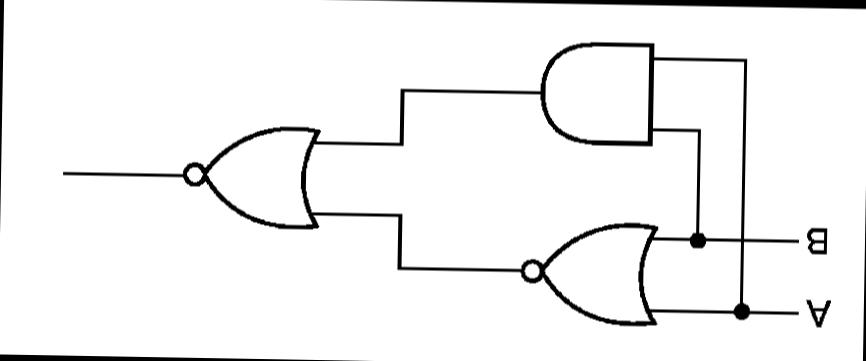and: (528, 34, 661, 154)
nor: (509, 210, 666, 334), (175, 118, 326, 236)
